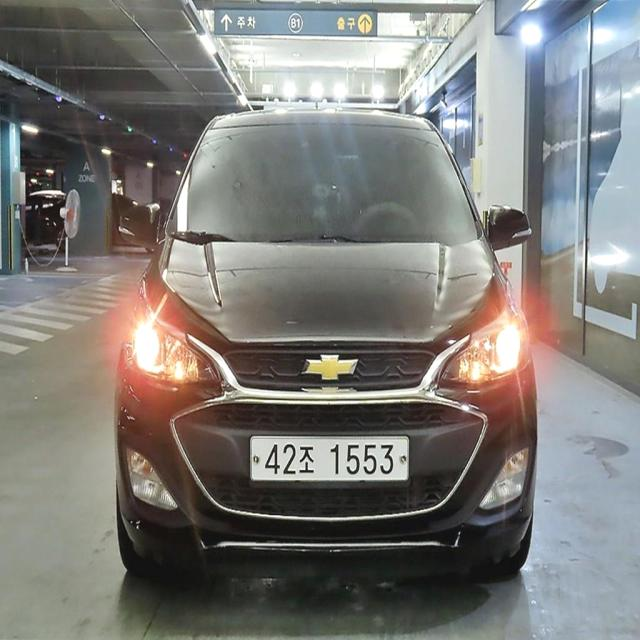car: (117, 102, 555, 590)
illegal_plate: (248, 431, 413, 492)
